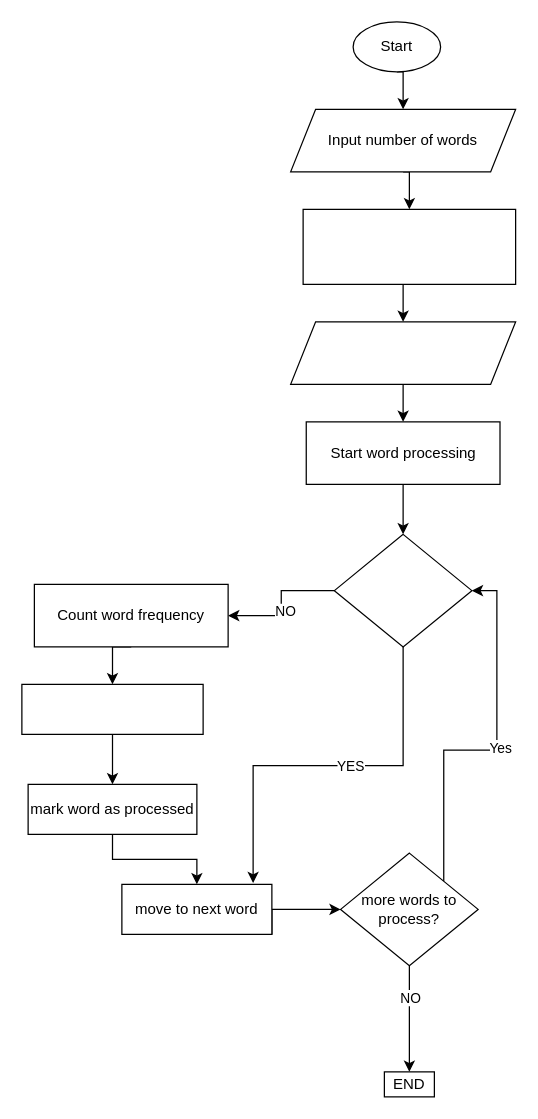
Image size: 538x1119. Some labels were removed from this diagram. The shapes that lost their labels are listed below. From the top down, each one's centre as x and y in pixels, then its label:
At point 409,246: "Create wordlist array".
At point 402,352: "input words into array".
At point 402,590: "Current word empty?".
At point 112,708: "print word and frequency".
